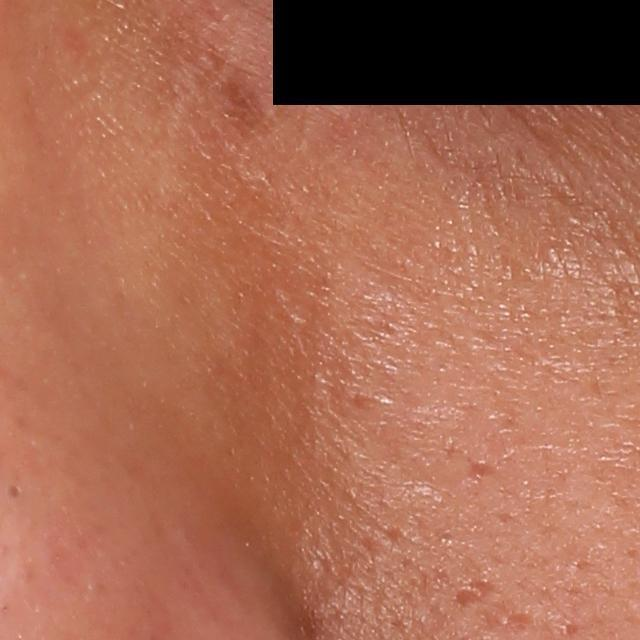atrophic_scar: (451, 577, 491, 609), (469, 459, 502, 481)
comedo: (3, 481, 28, 502)
melasma: (212, 52, 269, 130)
